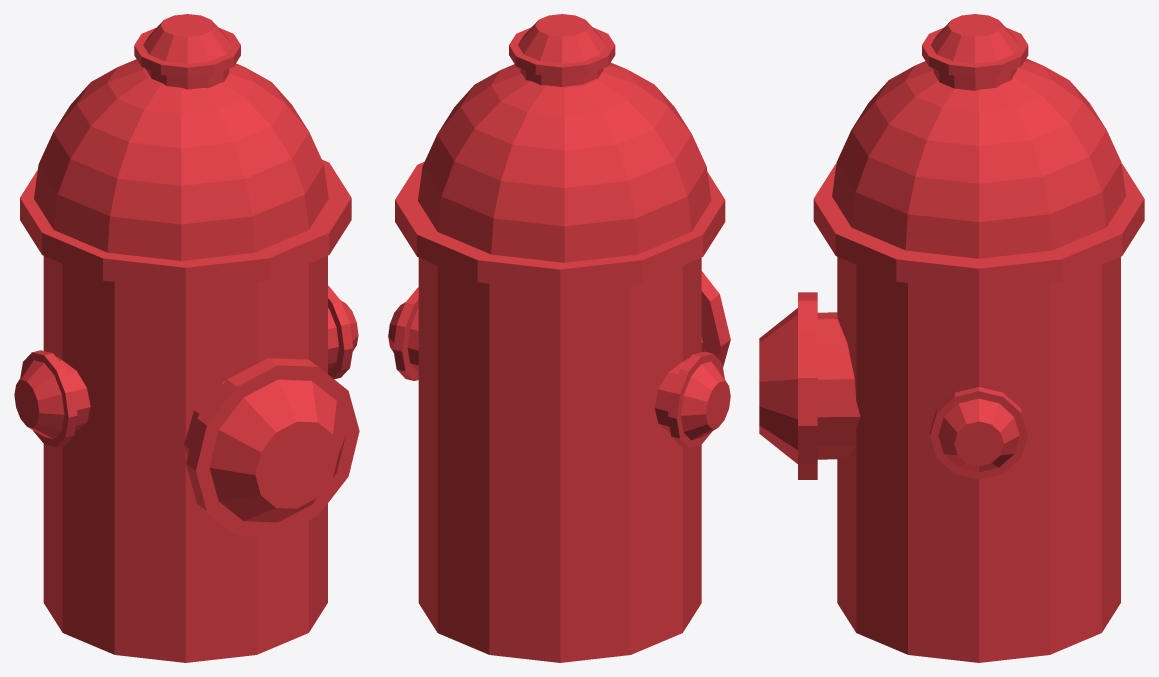
Rendered from FireHydrant.fbx.
The picture shows the model from 3 angles, left to right: view 1: azimuth 30°, elevation 25°; view 2: azimuth 150°, elevation 25°; view 3: azimuth 270°, elevation 25°; orthographic projection.
Visible parts, largest first — view 1: FireHydrant; view 2: FireHydrant; view 3: FireHydrant.
Boxes of the visible parts, bbox=[...] form: FireHydrant: bbox=[14, 14, 359, 662]; FireHydrant: bbox=[388, 14, 730, 662]; FireHydrant: bbox=[759, 14, 1144, 662].
Size of the model in its own units: 66.12 by 115 by 69.22.
